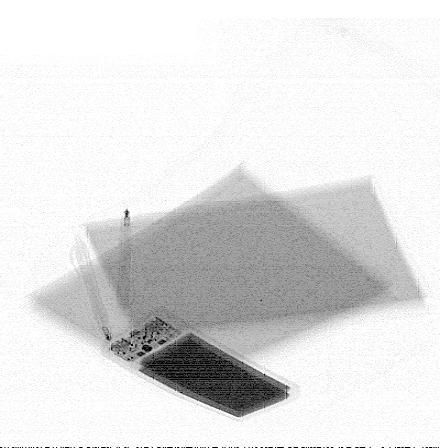Powerbank: (104, 306, 299, 422)
